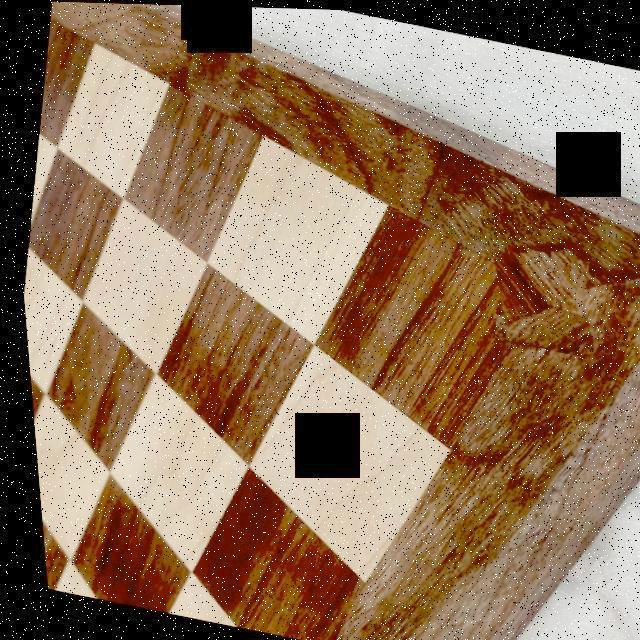chess-table-corners: (478, 233, 598, 357)
